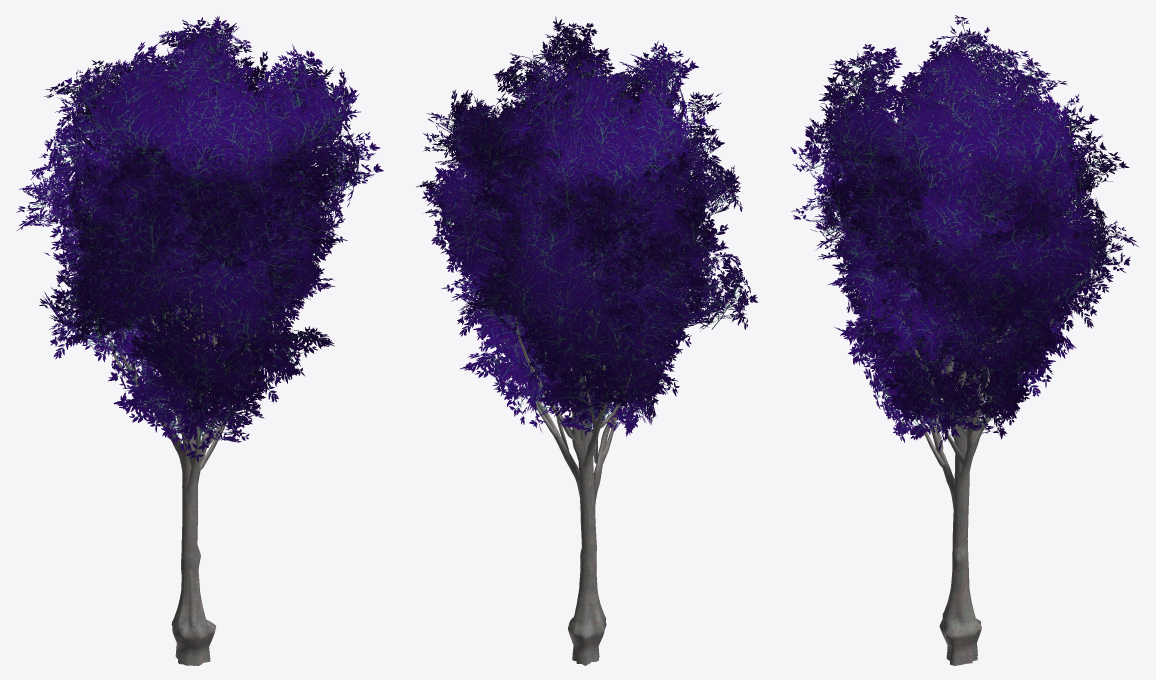
3 renders of one model, left to right at view 1: azimuth 30°, elevation 25°; view 2: azimuth 150°, elevation 25°; view 3: azimuth 270°, elevation 25°, orthographic. The views are drawn at different scales.
Visible parts, largest first — view 1: SM_GF_Ash_Tree_02_LOD0; view 2: SM_GF_Ash_Tree_02_LOD0; view 3: SM_GF_Ash_Tree_02_LOD0.
Boxes of the visible parts, x1,y1,x2,y2 form: SM_GF_Ash_Tree_02_LOD0: [16, 16, 383, 665]; SM_GF_Ash_Tree_02_LOD0: [416, 16, 757, 665]; SM_GF_Ash_Tree_02_LOD0: [790, 15, 1138, 665].
Bounding box in the file's own units: 9.24 × 17.3 × 9.14.
Materials: 2 (2 with a texture image).
